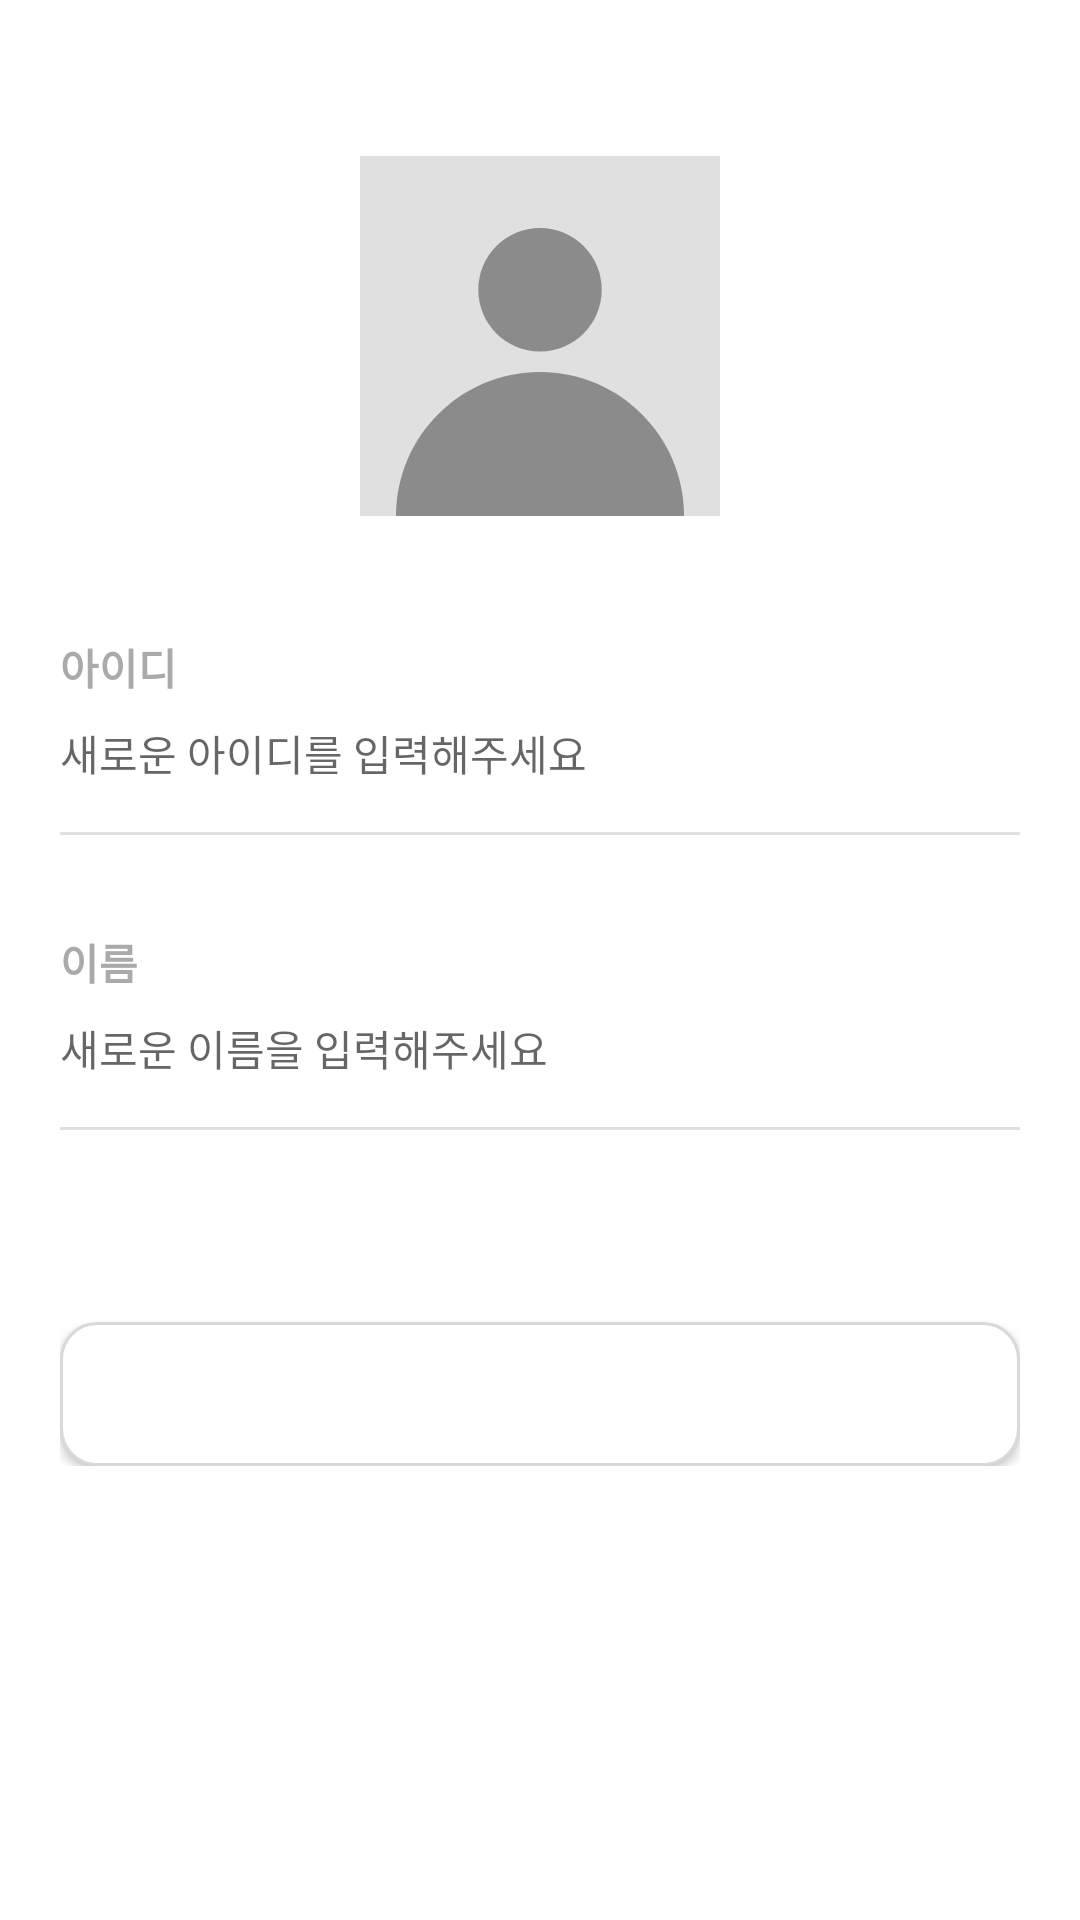

Icon bounding boxes for this 1080*1920 phone screenshot, format (x1, y1, x2, y2):
프로필 이미지: (360, 156, 720, 516)
